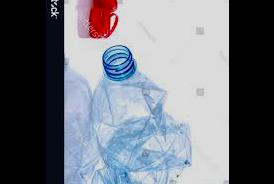Plastic: (77, 45, 193, 183), (84, 0, 121, 43)
